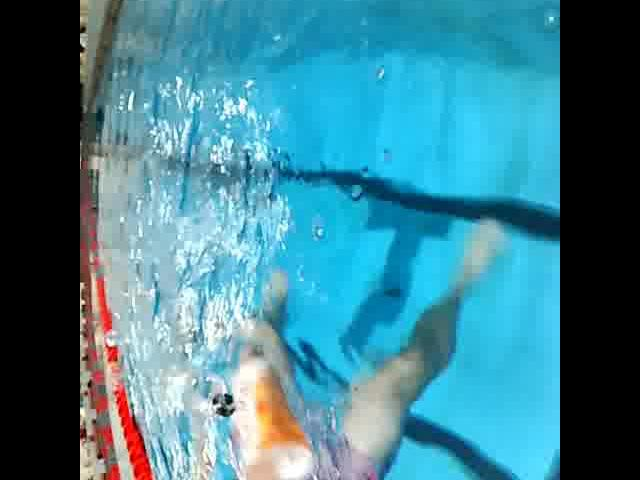Bottle: (229, 320, 319, 480)
